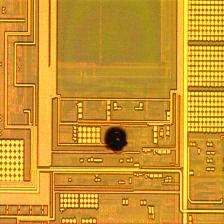PARTICLE: (103, 126, 131, 154)
